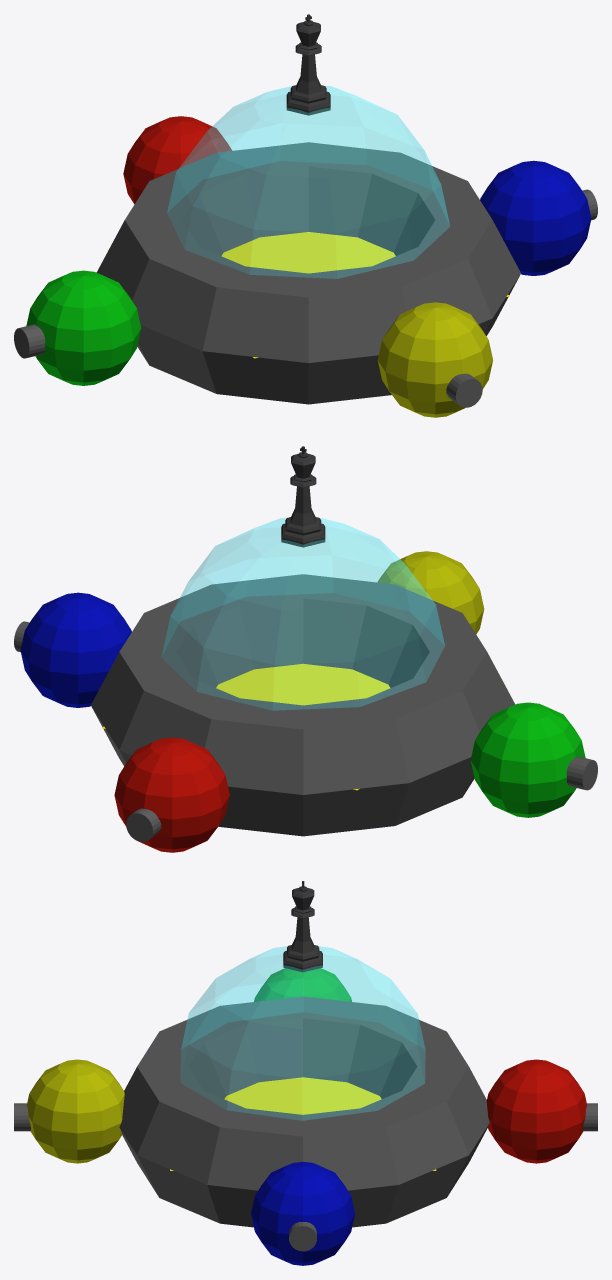
The model's file is Black King Boss 1.glb.
The picture shows the model from 3 angles, top to bottom: view 1: azimuth 30°, elevation 25°; view 2: azimuth 150°, elevation 25°; view 3: azimuth 270°, elevation 25°; orthographic projection. The views are drawn at different scales.
Visible parts, largest first — view 1: Torus, Sphere, Sphere.002, Sphere.003, Sphere.001, Plane, Sphere.004, King, Cylinder.002, Cylinder.001; view 2: Torus, Sphere, Sphere.002, Sphere.004, Sphere.001, Plane, Sphere.003, King, Cylinder.003, Cylinder.001; view 3: Torus, Sphere, Sphere.004, Sphere.003, Sphere.001, Plane, Sphere.002, King, Cylinder.
Part boxes in pixels (x1,y1,x2,y2): Torus: (96, 142, 520, 404); Sphere: (167, 86, 449, 278); Sphere.002: (26, 270, 141, 385); Sphere.003: (377, 302, 492, 417); Sphere.001: (480, 160, 591, 275); Plane: (107, 232, 509, 358); Sphere.004: (123, 116, 232, 204); King: (286, 14, 330, 115); Cylinder.002: (446, 373, 482, 407); Cylinder.001: (14, 324, 45, 358); Torus: (91, 574, 515, 836); Sphere: (162, 518, 444, 710); Sphere.002: (470, 702, 585, 817); Sphere.004: (114, 737, 229, 852); Sphere.001: (20, 592, 131, 707); Plane: (102, 663, 504, 790); Sphere.003: (377, 551, 484, 634); King: (281, 446, 325, 547); Cylinder.003: (126, 808, 161, 841); Cylinder.001: (566, 756, 597, 790); Torus: (119, 996, 489, 1227); Sphere: (181, 946, 425, 1120); Sphere.004: (486, 1059, 587, 1163); Sphere.003: (26, 1059, 124, 1163); Sphere.001: (251, 1162, 354, 1265); Plane: (170, 1077, 436, 1170); Sphere.002: (254, 968, 351, 1001); King: (283, 881, 322, 972); Cylinder: (289, 1222, 316, 1251).
Bounding box in the file's own units: 11.37 × 6.58 × 11.21.
